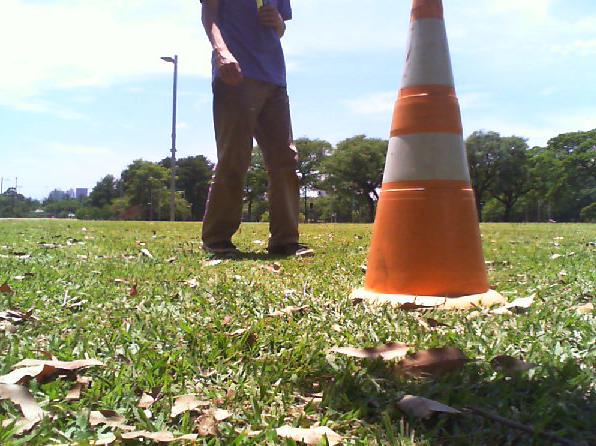0 cone: (350, 0, 508, 307)
